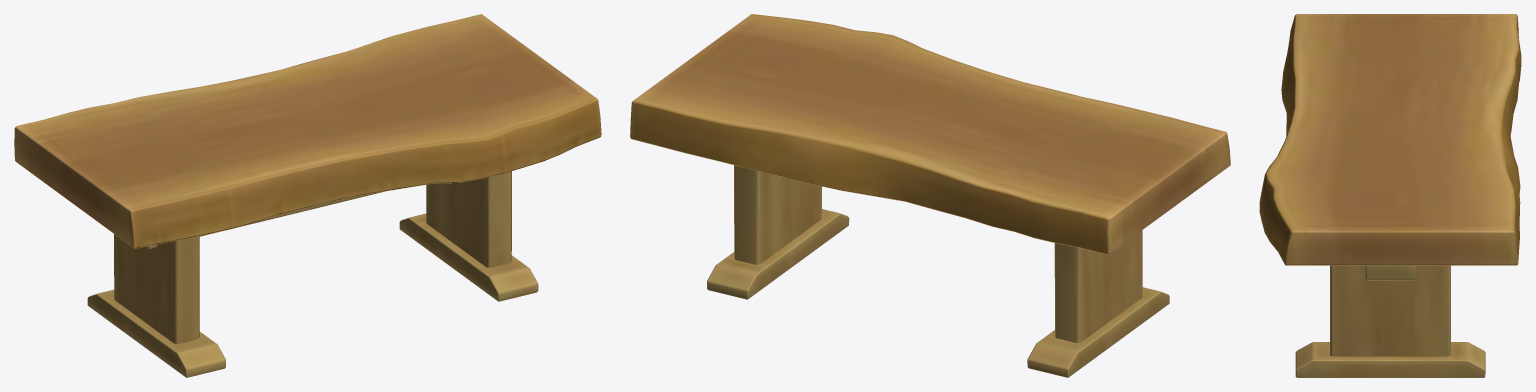
3 views of the same model, side by side, from view 1: azimuth 30°, elevation 25°; view 2: azimuth 150°, elevation 25°; view 3: azimuth 270°, elevation 25° (orthographic). The views are drawn at different scales.
Size of the model in its own units: 19.34 by 7.2 by 9.82.
Materials: 1 (1 with a texture image).
